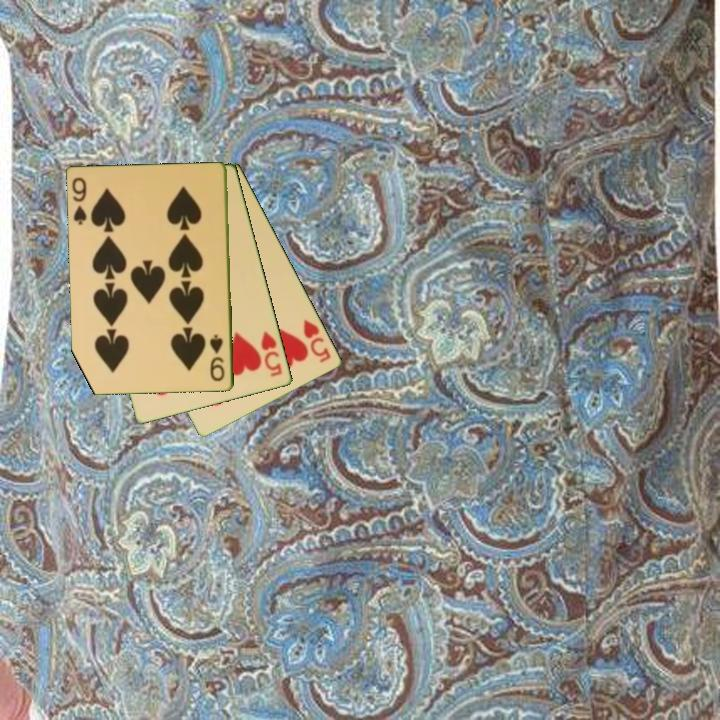5h: (300, 316, 334, 366), (258, 328, 285, 380)
9s: (206, 331, 228, 384), (69, 174, 90, 227)
